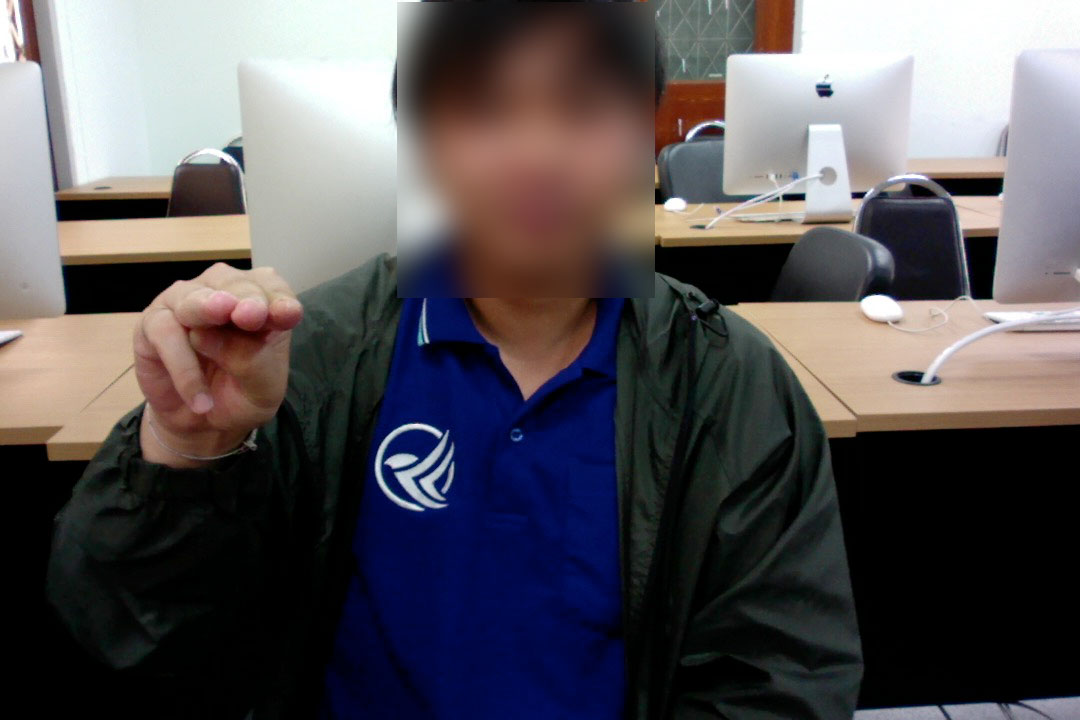mor: (116, 251, 306, 459)
